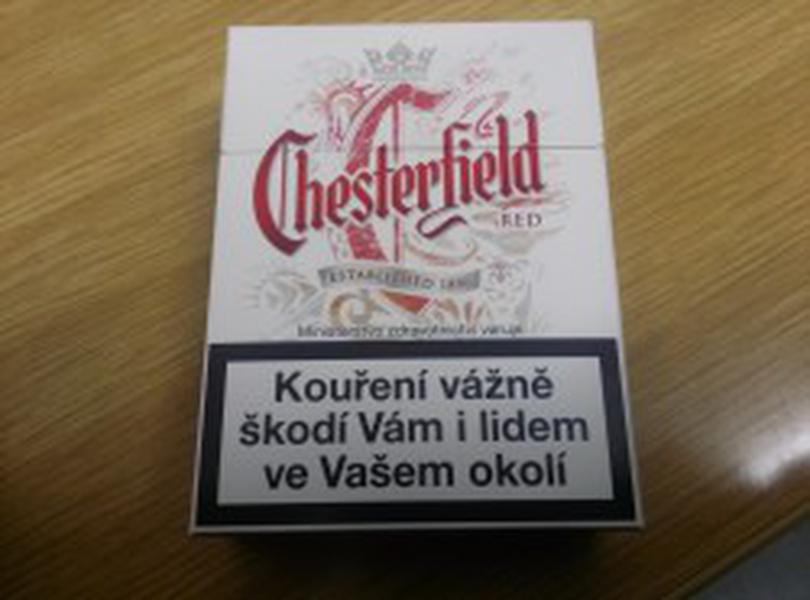chesterfield_red: (226, 25, 596, 521)
